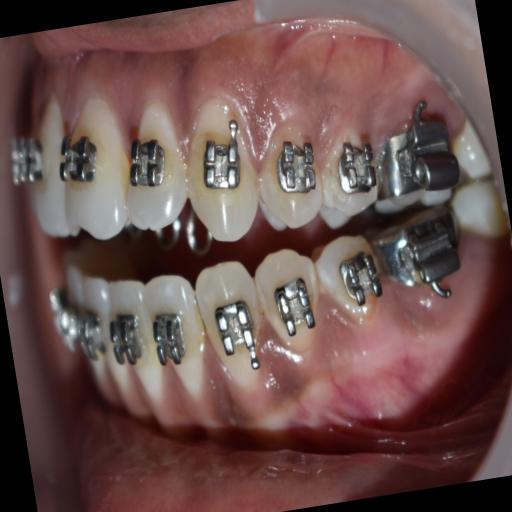correct_brace: (248, 114, 330, 236), (312, 234, 386, 327), (52, 130, 106, 200), (212, 296, 260, 362), (198, 133, 244, 199), (148, 308, 192, 370), (124, 132, 168, 190), (107, 310, 146, 372), (271, 276, 313, 328)
incorrect_brace: (112, 105, 196, 232), (191, 262, 272, 392), (270, 134, 323, 204), (336, 250, 384, 308)
